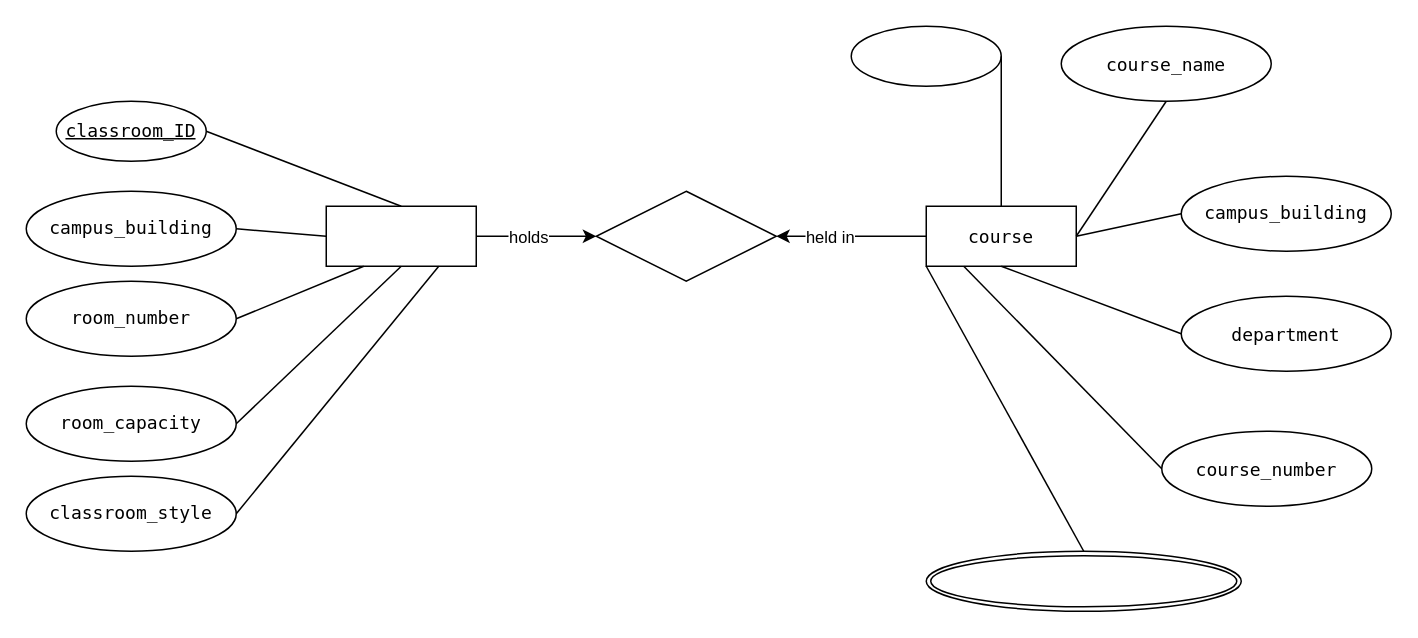
This 1418x638 diagram has some shape labels left out. The box of each missing label's shape, as (x1, y1, x2, y2) in pixels:
classroom: (325, 205, 476, 266)
course_ID: (850, 25, 1001, 86)
learning_objectives: (925, 550, 1241, 611)
Relationship: (595, 190, 776, 281)
